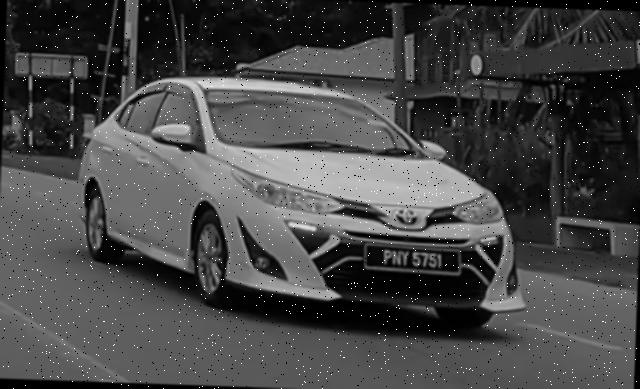License_Plate: (362, 242, 463, 277)
car: (74, 70, 535, 331)
